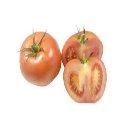tomato: (20, 32, 61, 82)
